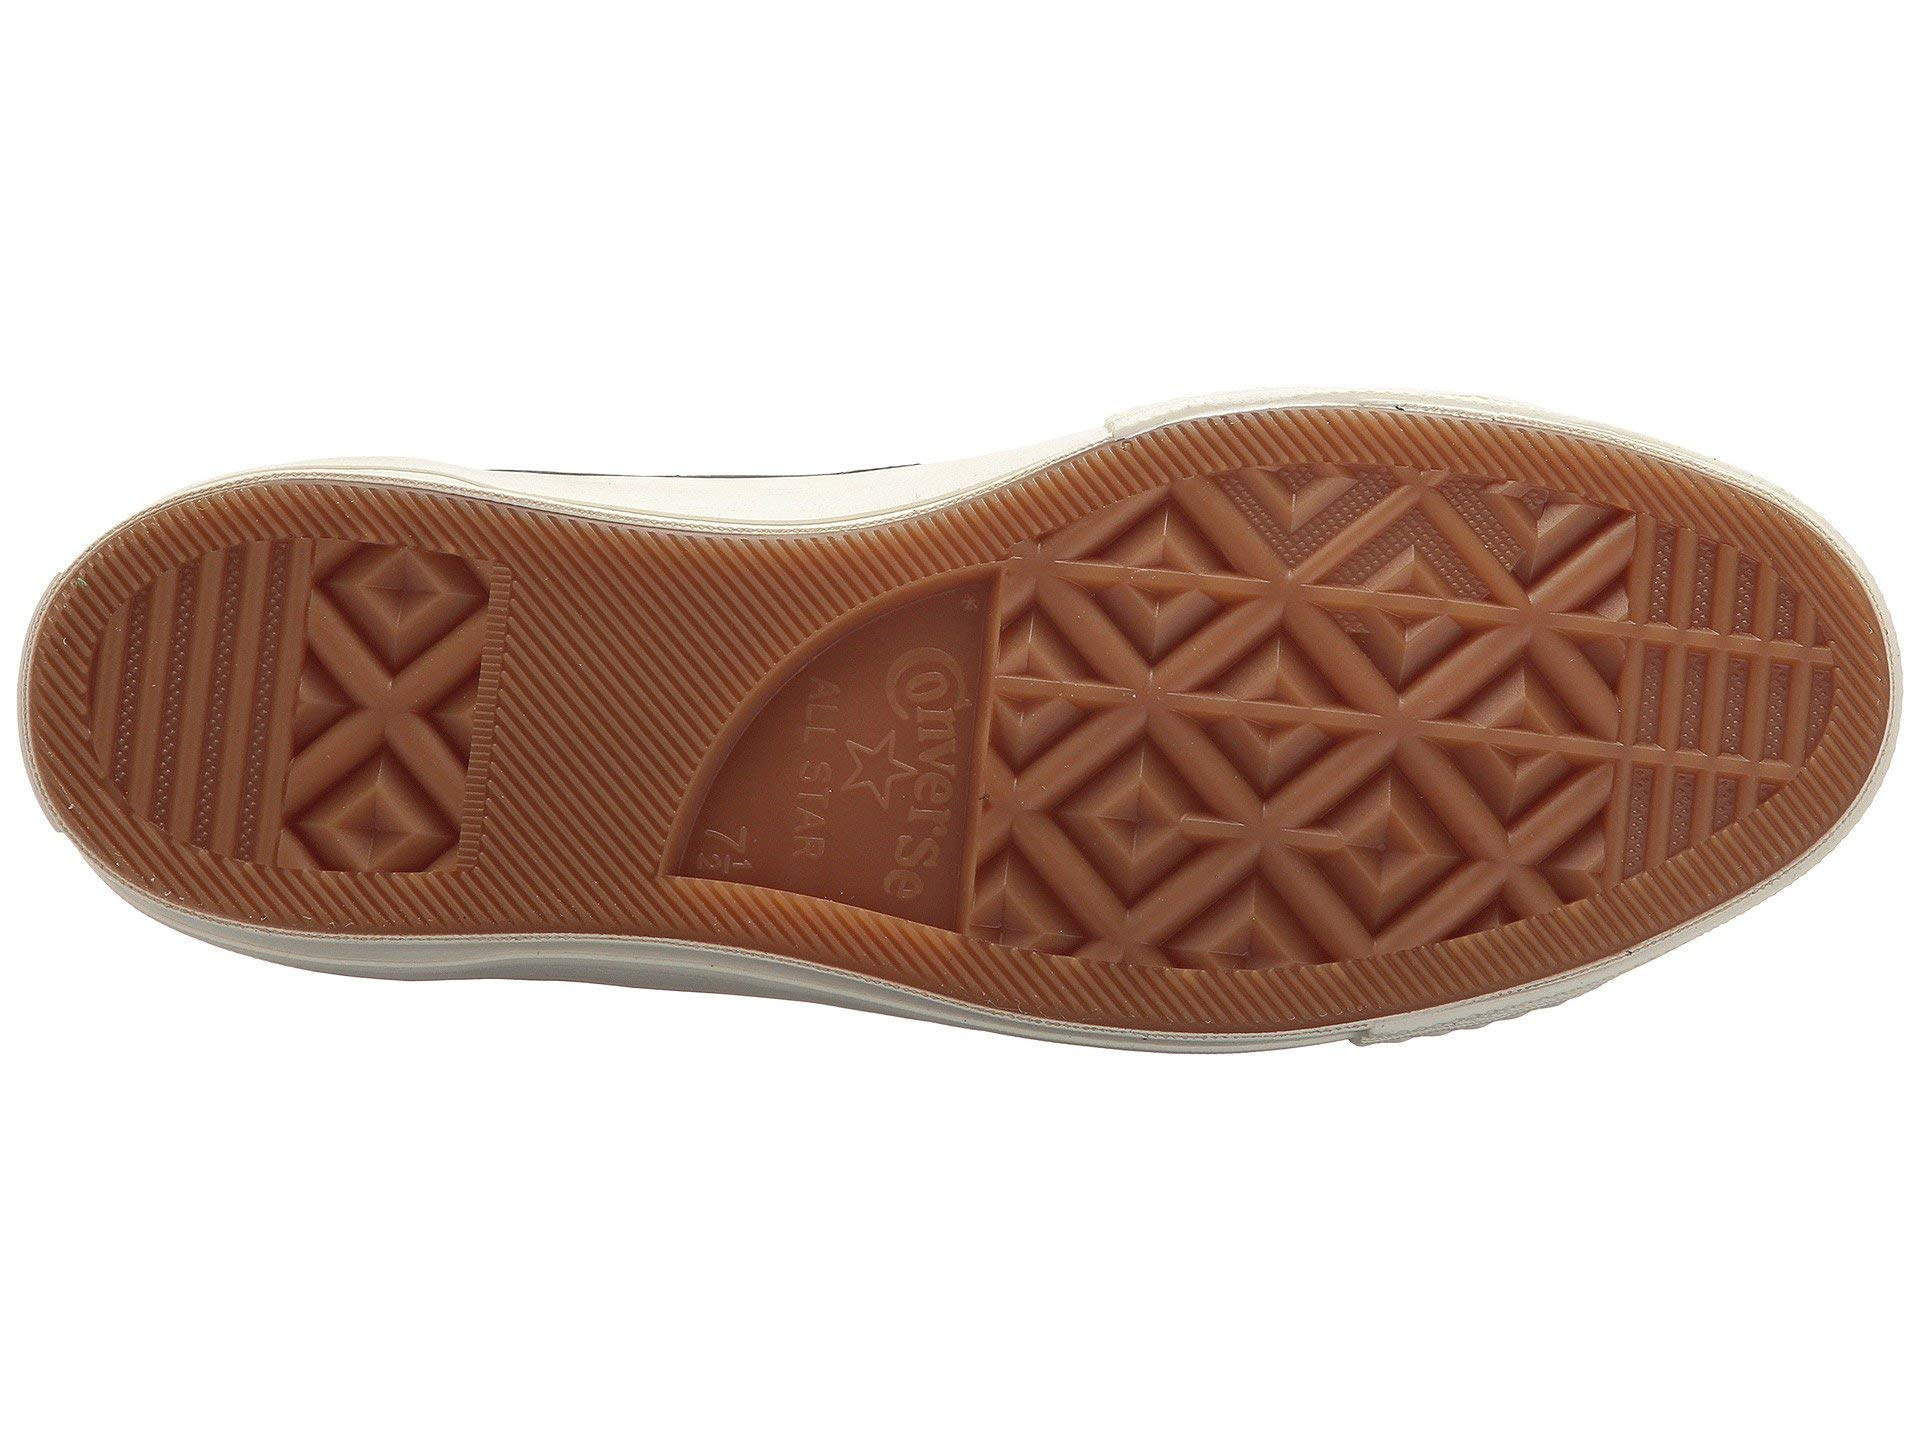line: (1110, 484, 1518, 967), (1643, 504, 1835, 870), (76, 535, 249, 870), (531, 532, 705, 708)
quad: (1110, 484, 1518, 967), (265, 532, 513, 867), (1643, 504, 1835, 870)
triangle: (1110, 484, 1518, 967), (265, 532, 513, 867)
